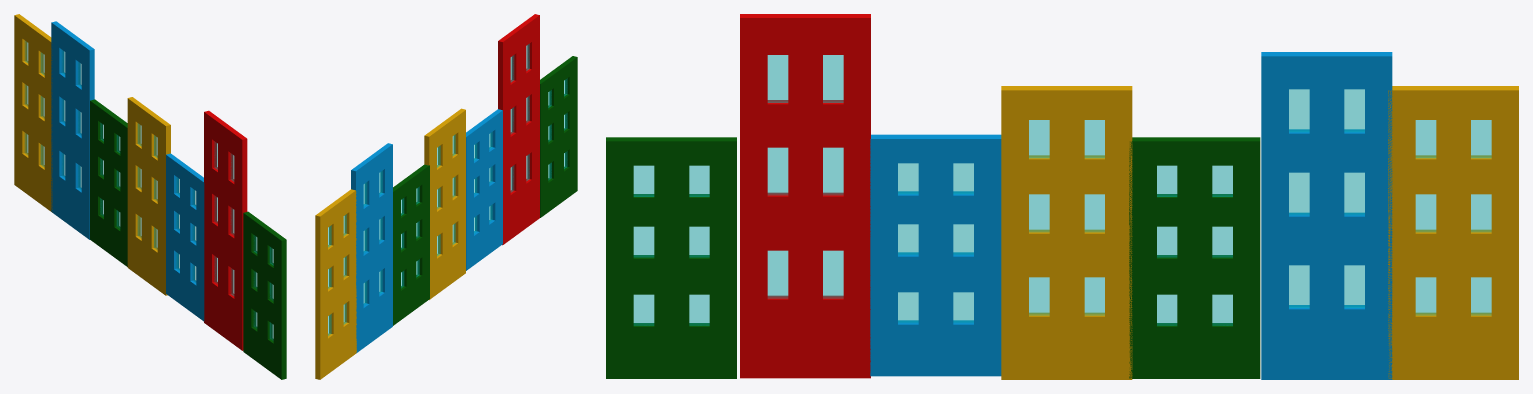
File: BackGroundCity.fbx
The picture shows the model from 3 angles, left to right: view 1: azimuth 30°, elevation 25°; view 2: azimuth 150°, elevation 25°; view 3: azimuth 270°, elevation 25°; orthographic projection. The views are drawn at different scales.
Parts seen in each view (by area): view 1: pCube200, pCube204, pCube202, pCube206, pCube205, pCube201, pCube203; view 2: pCube200, pCube204, pCube206, pCube202, pCube205, pCube201, pCube203; view 3: pCube200, pCube204, pCube202, pCube206, pCube201, pCube203, pCube205.
Boxes of the visible parts, <box> form: pCube200: <box>204,110,247,350</box>; pCube204: <box>51,21,94,239</box>; pCube202: <box>127,97,170,295</box>; pCube206: <box>14,14,52,212</box>; pCube205: <box>243,211,286,379</box>; pCube201: <box>166,153,204,321</box>; pCube203: <box>90,99,127,266</box>; pCube200: <box>498,14,539,245</box>; pCube204: <box>351,143,392,353</box>; pCube206: <box>315,189,356,379</box>; pCube202: <box>424,108,465,299</box>; pCube205: <box>540,56,577,217</box>; pCube201: <box>466,109,502,270</box>; pCube203: <box>393,164,429,325</box>; pCube200: <box>740,14,870,378</box>; pCube204: <box>1261,52,1392,379</box>; pCube202: <box>1001,86,1132,379</box>; pCube206: <box>1388,86,1518,379</box>; pCube201: <box>870,134,1001,376</box>; pCube203: <box>1129,137,1260,378</box>; pCube205: <box>606,137,736,378</box>.
Bounding box in the file's own units: 2.13 × 86.64 × 198.
